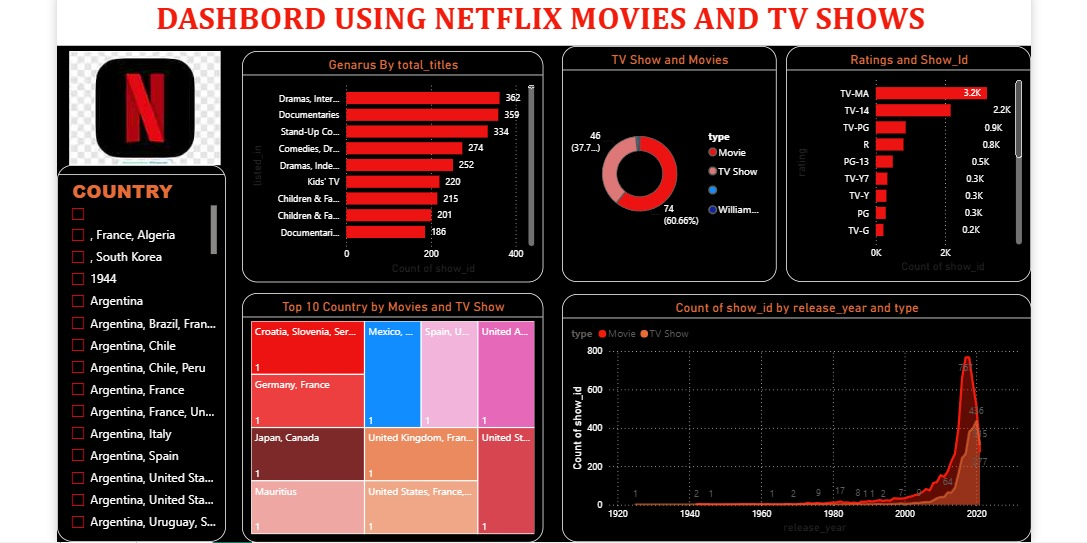

Layout of this report page (visuals, bound fields, positions):
{"tool":"powerbi","page":{"name":"Page 1","canvas":[1280,720],"ordinal":0},"visuals":[{"type":"donutChart","title":"TV Show and Movies","fields":{"Y":["Count(netflix_titles.release_year)"],"Category":["netflix_titles.type"]},"box":[663.4,68.8,282.2,309.7],"z":0},{"type":"barChart","title":"Ratings and Show_Id","fields":{"Category":["netflix_titles.rating"],"Y":["CountNonNull(netflix_titles.show_id)"]},"box":[957.9,68.8,322.1,309.7],"z":1000},{"type":"barChart","title":"Genarus By total_titles","fields":{"Category":["netflix_titles.listed_in"],"Y":["CountNonNull(netflix_titles.show_id)"]},"box":[243.6,74.3,396.4,304.2],"z":2000},{"type":"treemap","title":"Top 10 Country by Movies and TV Show","fields":{"Group":["netflix_titles.country"],"Values":["CountNonNull(netflix_titles.show_id)"]},"box":[243.6,392.3,373,327.6],"z":3000},{"type":"areaChart","fields":{"Category":["netflix_titles.release_year"],"Y":["Count(netflix_titles.show_id)"],"Series":["netflix_titles.type"]},"box":[663.4,393.6,616.6,326.2],"z":4000},{"type":"textbox","box":[0,0,1280,68.3],"z":5000},{"type":"slicer","fields":{"Values":["netflix_titles.country"]},"box":[0,224.3,221.6,495.5],"z":6000},{"type":"image","box":[0,74.3,231.2,150],"z":7000}]}

Visuals, with their boxes in screenshot pixels (x1, y1, x2, y2):
"TV Show and Movies" donutChart: pyautogui.locateOnScreen(566, 42, 784, 281)
"Ratings and Show_Id" barChart: pyautogui.locateOnScreen(793, 42, 1042, 281)
"Genarus By total_titles" barChart: pyautogui.locateOnScreen(242, 46, 548, 281)
"Top 10 Country by Movies and TV Show" treemap: pyautogui.locateOnScreen(242, 291, 530, 542)
areaChart - netflix_titles.release_year x Count(netflix_titles.show_id): pyautogui.locateOnScreen(566, 292, 1042, 542)
textbox: pyautogui.locateOnScreen(54, 0, 1042, 41)
slicer - netflix_titles.country: pyautogui.locateOnScreen(54, 162, 225, 542)
image: pyautogui.locateOnScreen(54, 46, 232, 162)
